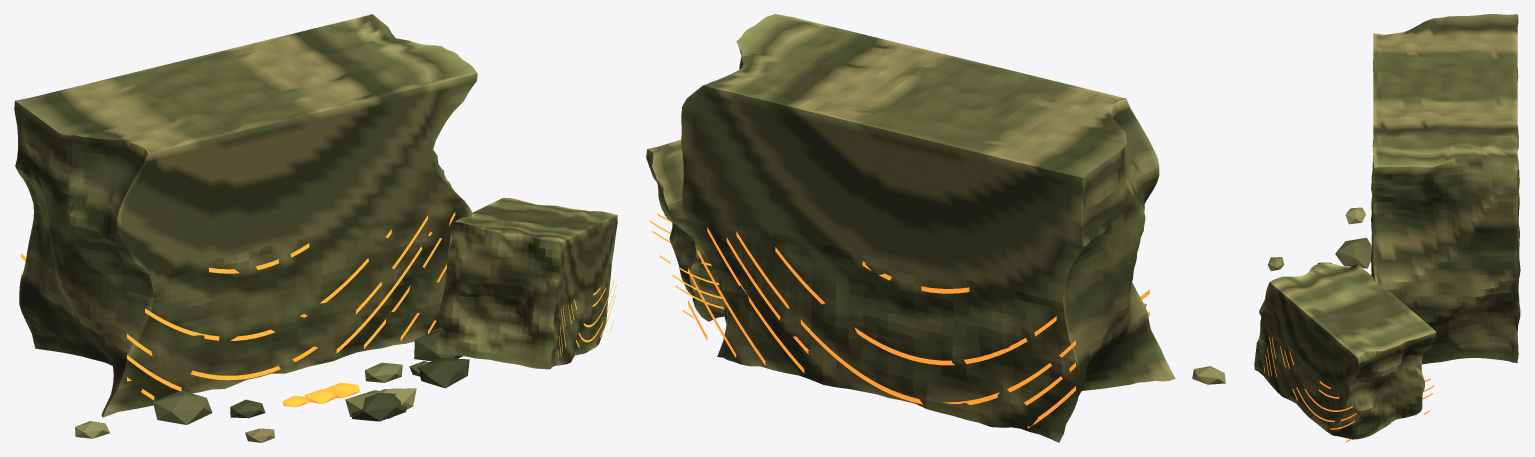
The model's file is mantle_rocks.glb.
3 views of the same model, side by side, from view 1: azimuth 30°, elevation 25°; view 2: azimuth 150°, elevation 25°; view 3: azimuth 270°, elevation 25° (orthographic). The views are drawn at different scales.
Parts seen in each view (by area): view 1: MantleRocks; view 2: MantleRocks; view 3: MantleRocks.
Part boxes in pixels (x1=…): MantleRocks: x1=14, y1=14, x2=617, y2=442; MantleRocks: x1=646, y1=14, x2=1225, y2=442; MantleRocks: x1=1254, y1=14, x2=1520, y2=442.
Bounding box in the file's own units: 3.61 × 1.81 × 1.85.
